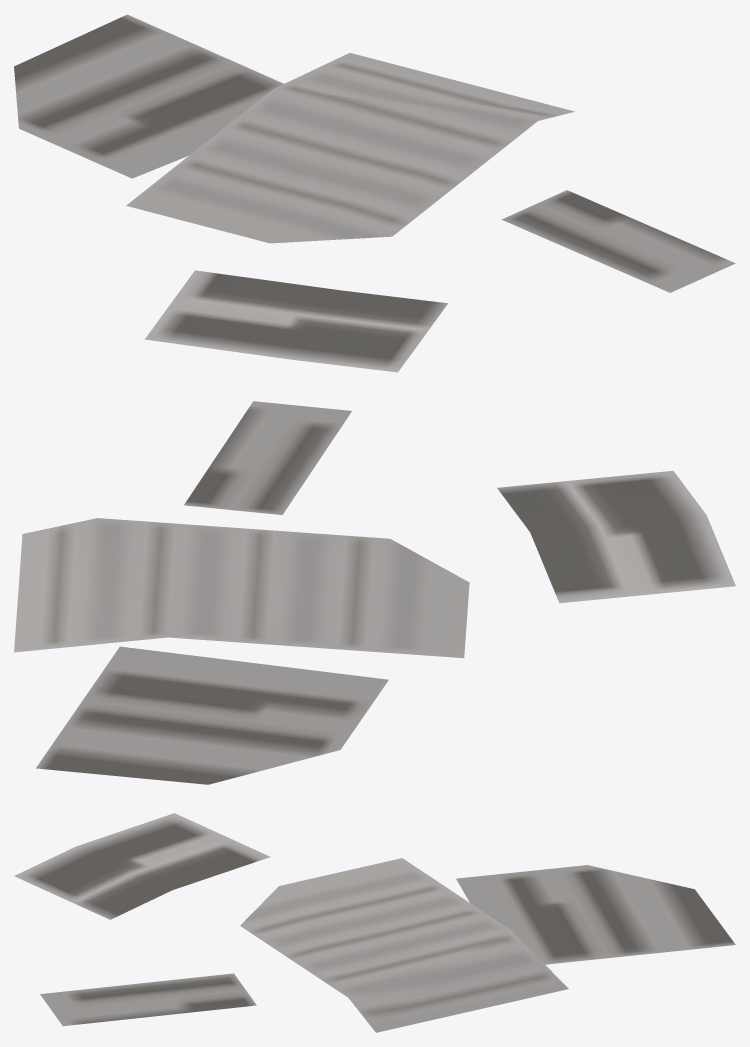
The model's file is SM_Prop_Rubbish_Papers_03.fbx.
3 views of the same model, one above another, from view 1: azimuth 30°, elevation 25°; view 2: azimuth 150°, elevation 25°; view 3: azimuth 270°, elevation 25° (orthographic). The views are drawn at different scales.
Parts seen in each view (by area): view 1: SM_Prop_Rubbish_Papers_03; view 2: SM_Prop_Rubbish_Papers_03; view 3: SM_Prop_Rubbish_Papers_03.
Boxes of the visible parts, left/top/right/bottom form: SM_Prop_Rubbish_Papers_03: left=14, top=14, right=735, bottom=372; SM_Prop_Rubbish_Papers_03: left=14, top=401, right=735, bottom=784; SM_Prop_Rubbish_Papers_03: left=14, top=813, right=735, bottom=1032.
Bounding box in the file's own units: 44.98 × 1.72 × 61.58.
